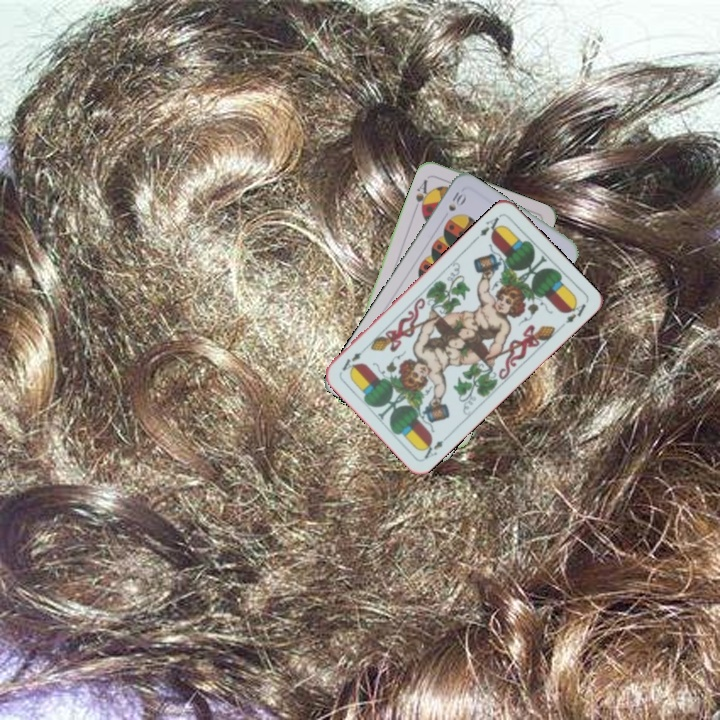EA: (418, 430, 452, 461), (476, 213, 506, 239)
S10: (444, 187, 469, 214)
SA: (410, 175, 433, 215)
